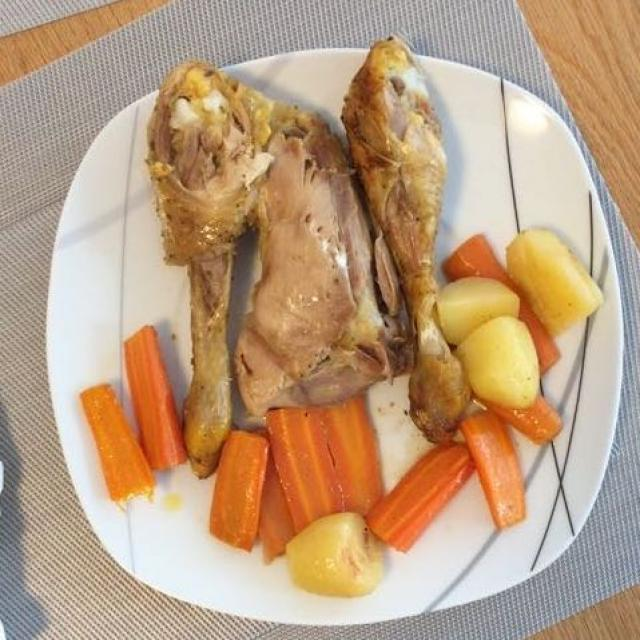carrot: (58, 190, 615, 606)
chicken: (135, 27, 479, 488)
potatoes: (266, 504, 386, 598)
